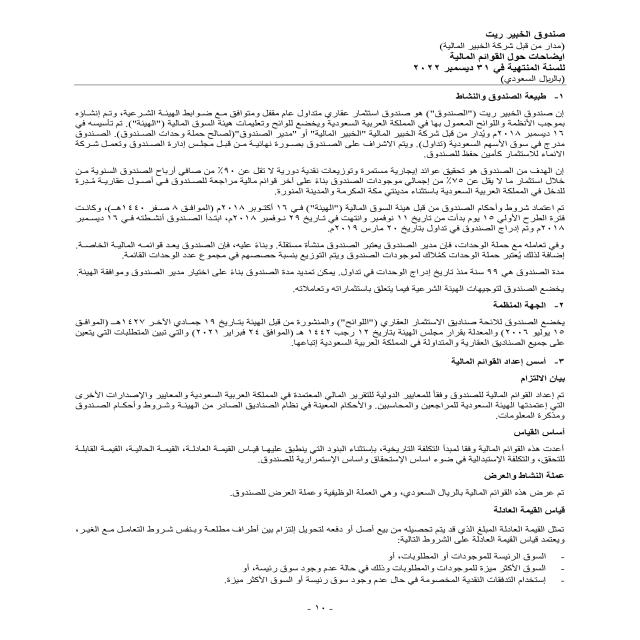notes: (441, 50, 573, 63)
text: (44, 86, 587, 595)
